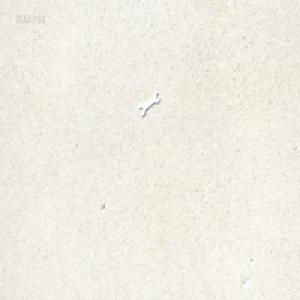Wrench: (139, 94, 160, 119)
